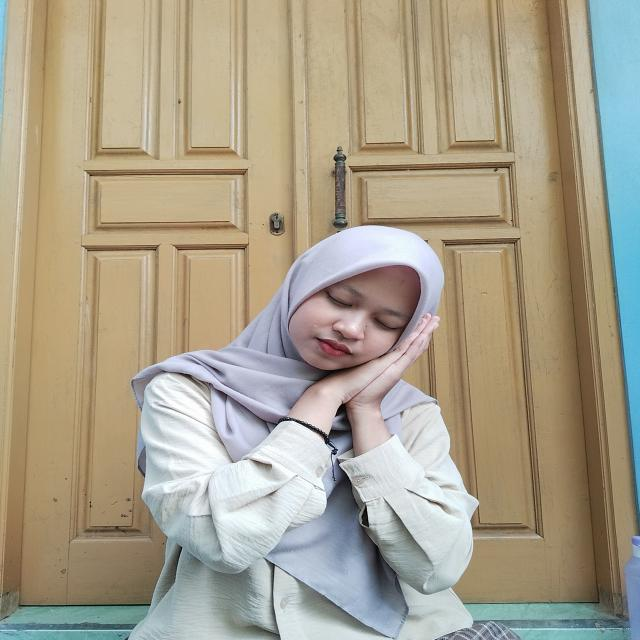tidur: (223, 310, 445, 476)
